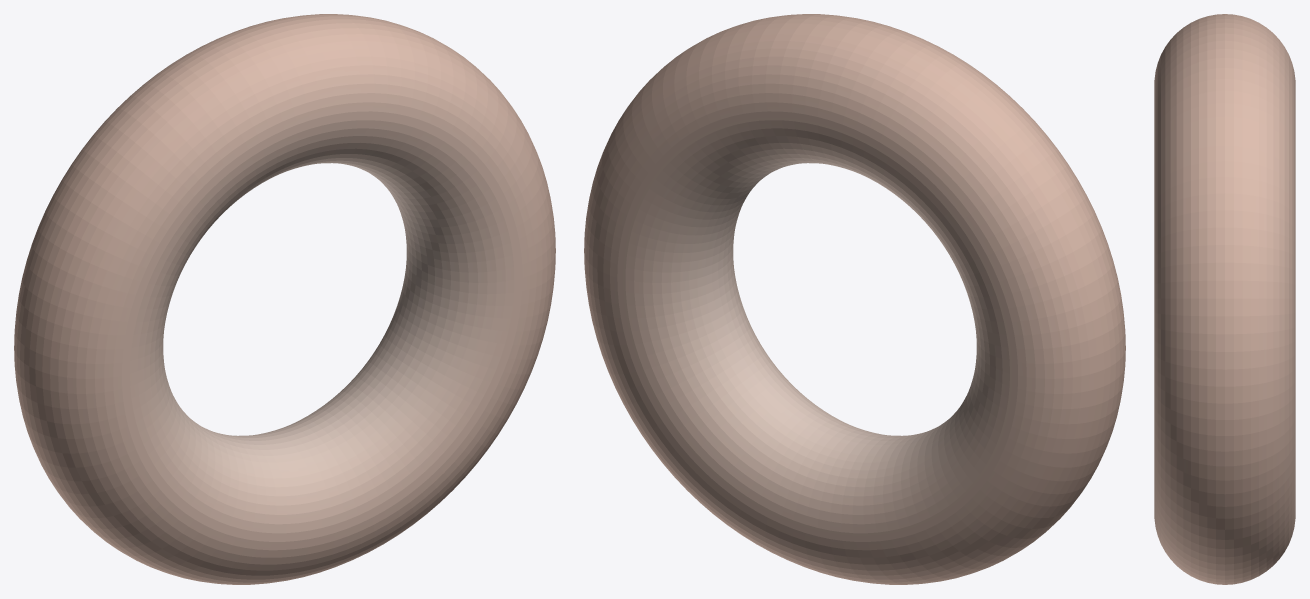
The picture shows the model from 3 angles, left to right: view 1: azimuth 30°, elevation 25°; view 2: azimuth 150°, elevation 25°; view 3: azimuth 270°, elevation 25°; orthographic projection. The views are drawn at different scales.
Parts seen in each view (by area): view 1: world; view 2: world; view 3: world.
Part boxes in pixels (bbox=[...]): world: bbox=[14, 14, 555, 584]; world: bbox=[584, 14, 1125, 584]; world: bbox=[1154, 14, 1295, 584].
Size of the model in its own units: 27.47 by 27.47 by 6.79.
